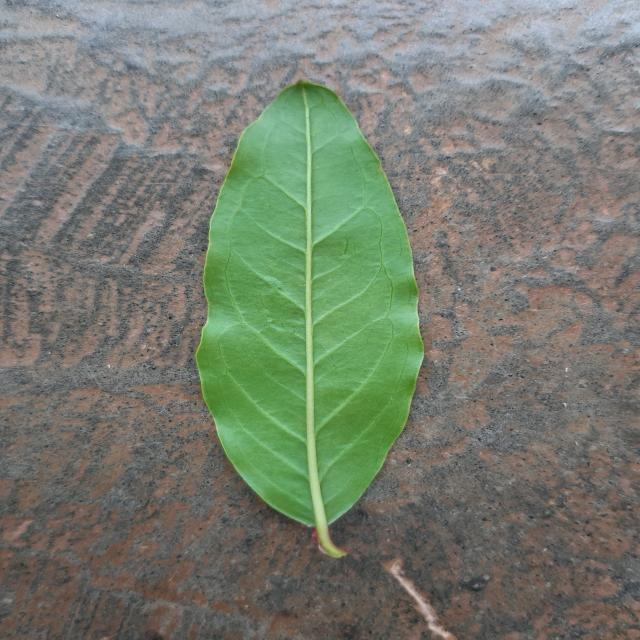pomgranate: (196, 81, 422, 556)
